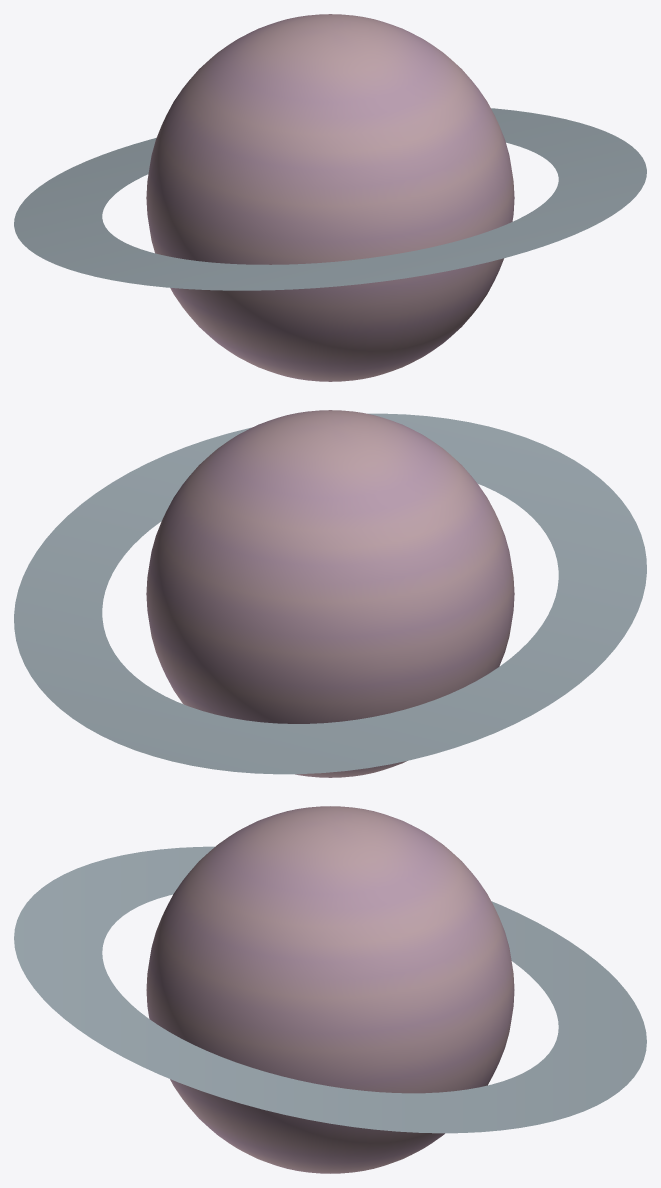
Rendered from planet_10.glb.
The picture shows the model from 3 angles, top to bottom: view 1: azimuth 30°, elevation 25°; view 2: azimuth 150°, elevation 25°; view 3: azimuth 270°, elevation 25°; orthographic projection.
Parts seen in each view (by area): view 1: planet_10_painted_mesh; view 2: planet_10_painted_mesh; view 3: planet_10_painted_mesh.
Boxes of the visible parts, box(x1,y1,x2,y2) form: planet_10_painted_mesh: box(14, 14, 646, 381); planet_10_painted_mesh: box(14, 410, 646, 777); planet_10_painted_mesh: box(14, 806, 646, 1173).
Bounding box in the file's own units: 3.44 × 2 × 3.44.
